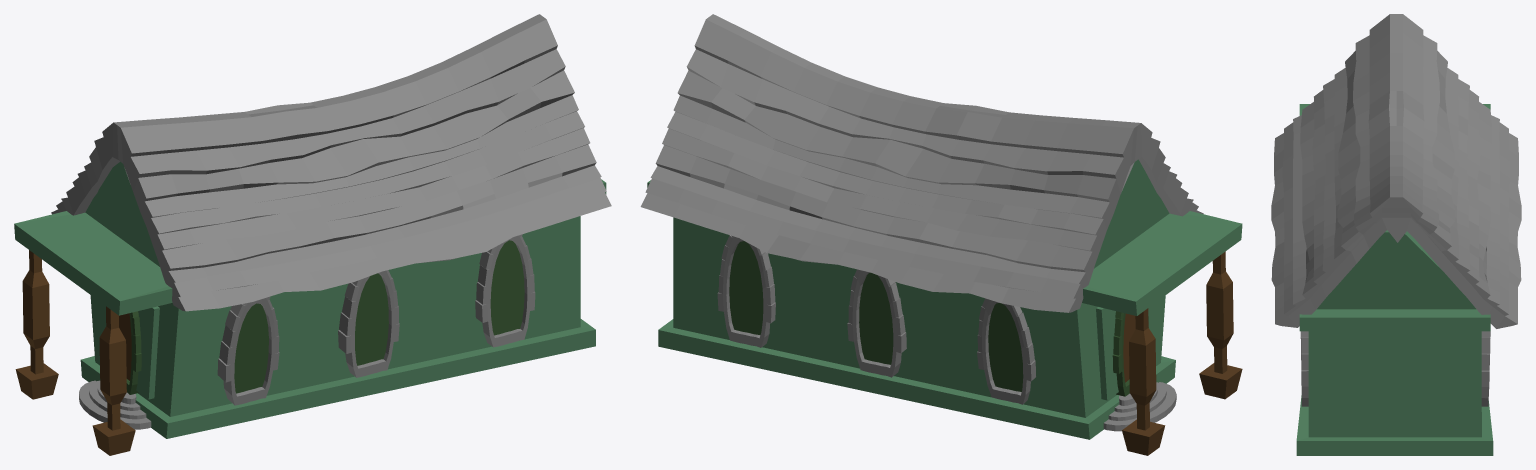
File: Swamp_Structure_Temple.fbx
3 views of the same model, side by side, from view 1: azimuth 30°, elevation 25°; view 2: azimuth 150°, elevation 25°; view 3: azimuth 270°, elevation 25° (orthographic). The views are drawn at different scales.
Visible parts, largest first — view 1: Swamp Structure Temple; view 2: Swamp Structure Temple; view 3: Swamp Structure Temple.
Part boxes in pixels (box(x1,y1,x2,y2)): Swamp Structure Temple: box(14, 14, 611, 455); Swamp Structure Temple: box(640, 14, 1242, 455); Swamp Structure Temple: box(1271, 14, 1521, 455).
Size of the model in its own units: 4852 by 2723 by 2373.
